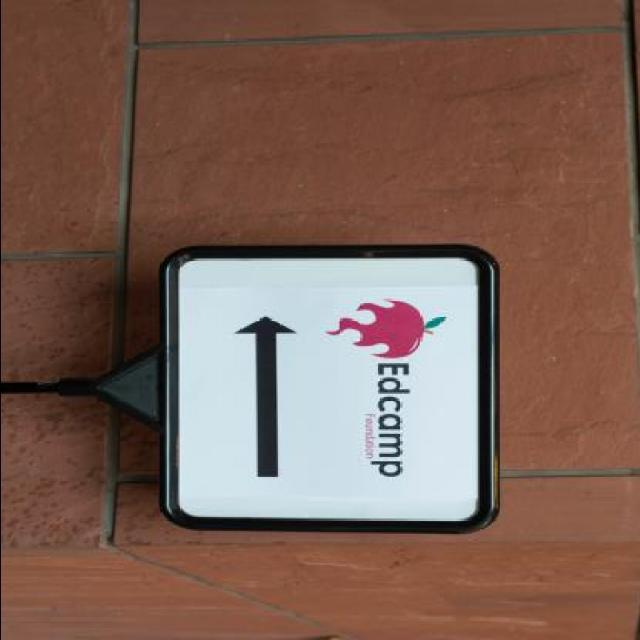Apple pie: (328, 298, 434, 358)
